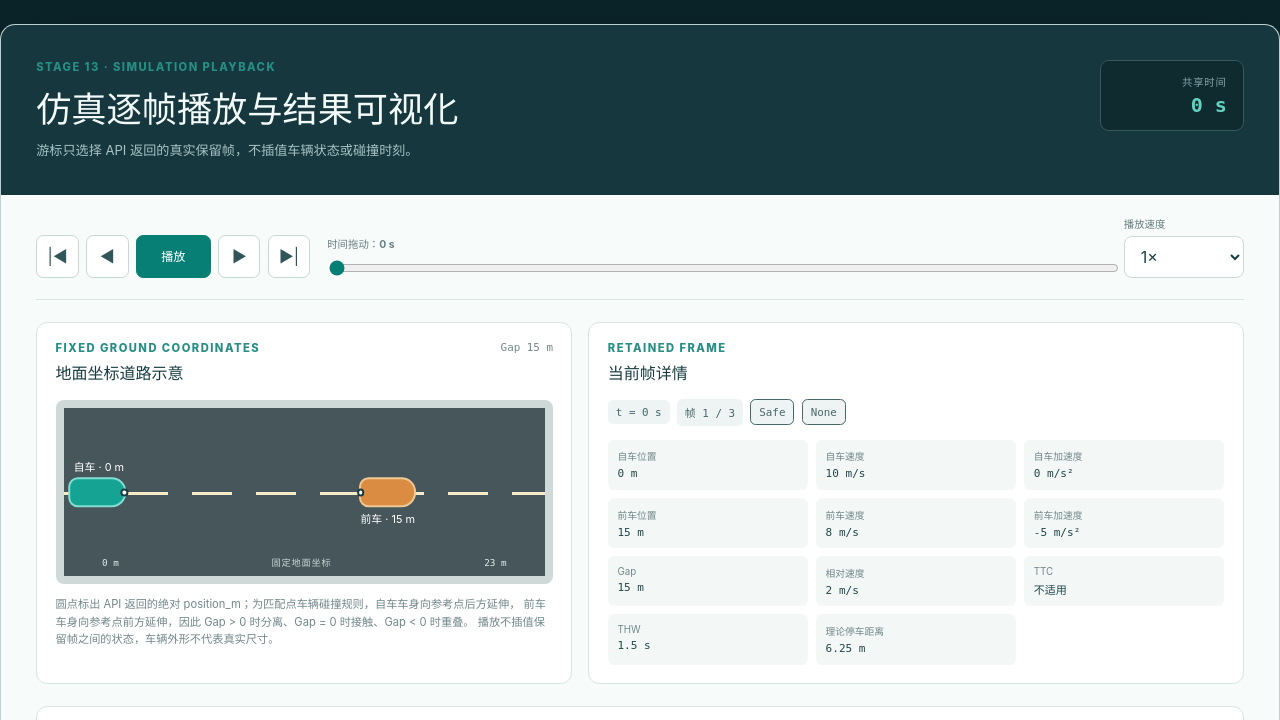
Test: PlaybackWorkbench › starts at the first retained frame and supports frame and scrub controls
expect the text "t = 0 s" is shown: met, box [608,400,670,424]
expect the text "Safe" is shown: met, box [750,399,794,425]
Click the button named "后一帧": (239, 256) [218,235,260,278]
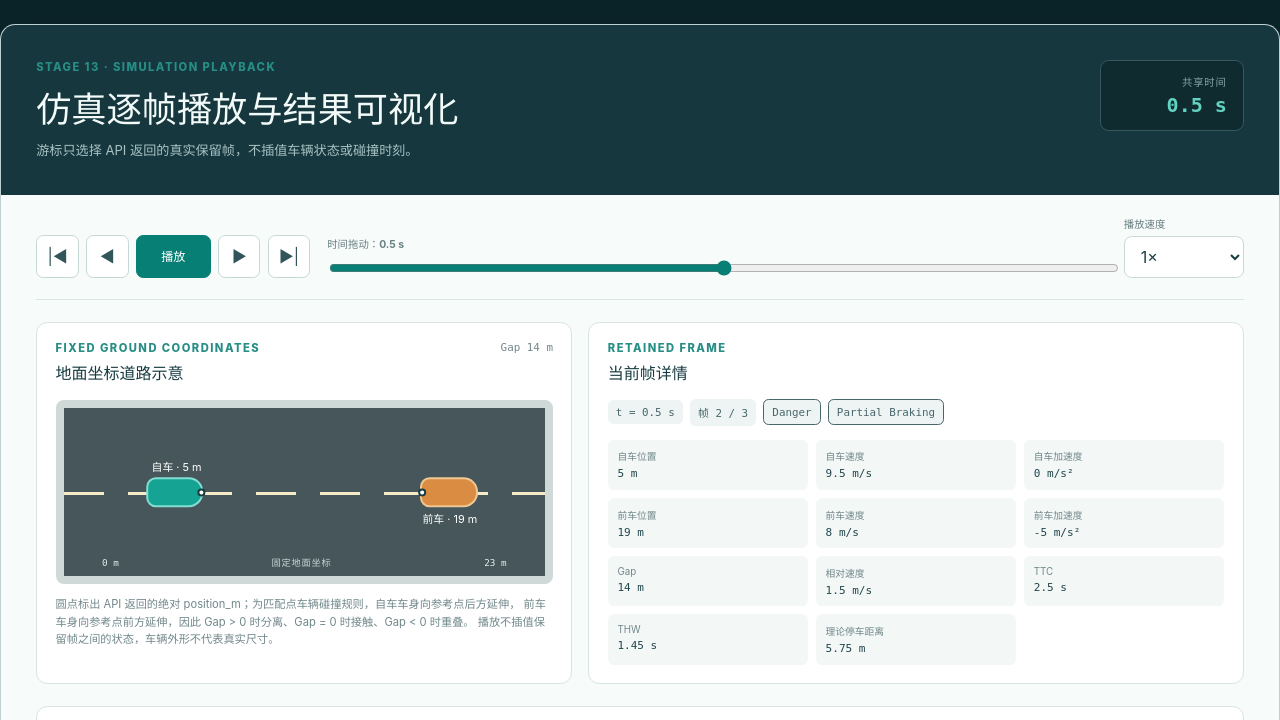
expect the text "t = 0.5 s" is shown: met, box [608,400,683,424]
expect the text "Danger" is shown: met, box [763,399,821,425]
expect the text "Partial Braking" is shown: met, box [828,399,944,425]
Click the button named "跳到末帧": (289, 256) [268,235,310,278]
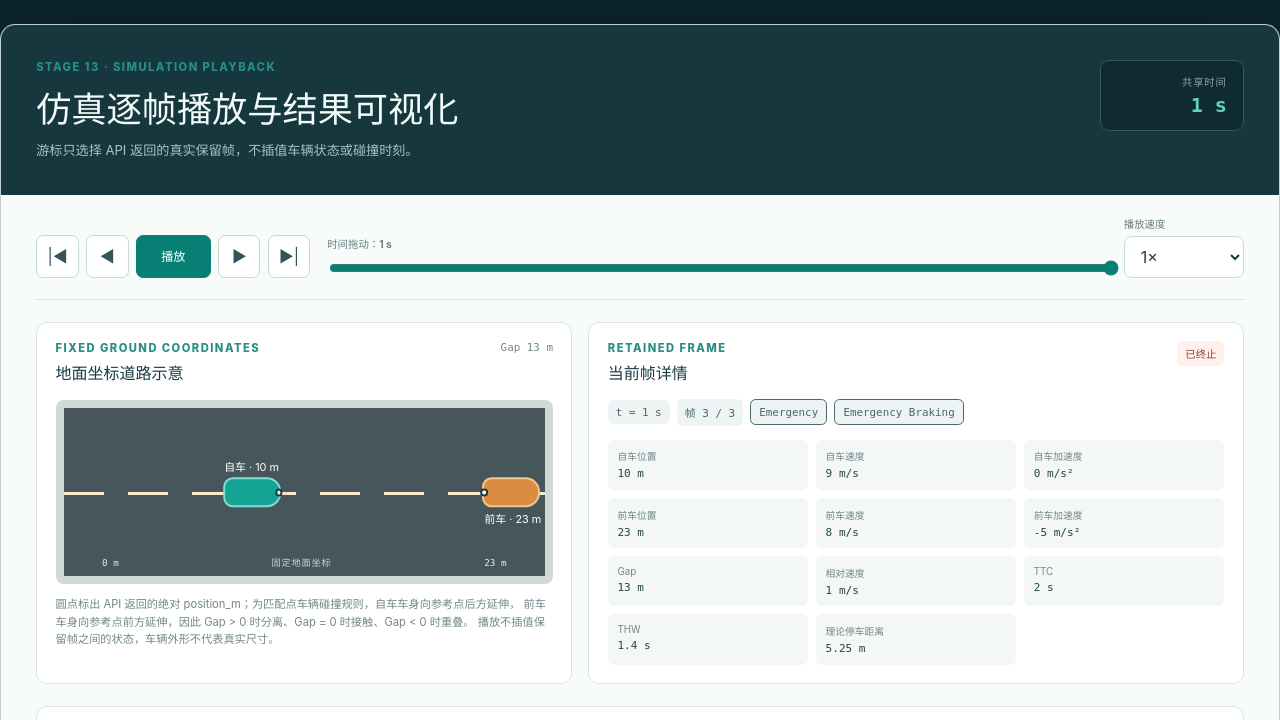
expect the text "t = 1 s" is shown: met, box [608,400,670,424]
Set the slider to "0": (337, 268) [329,260,1119,276]
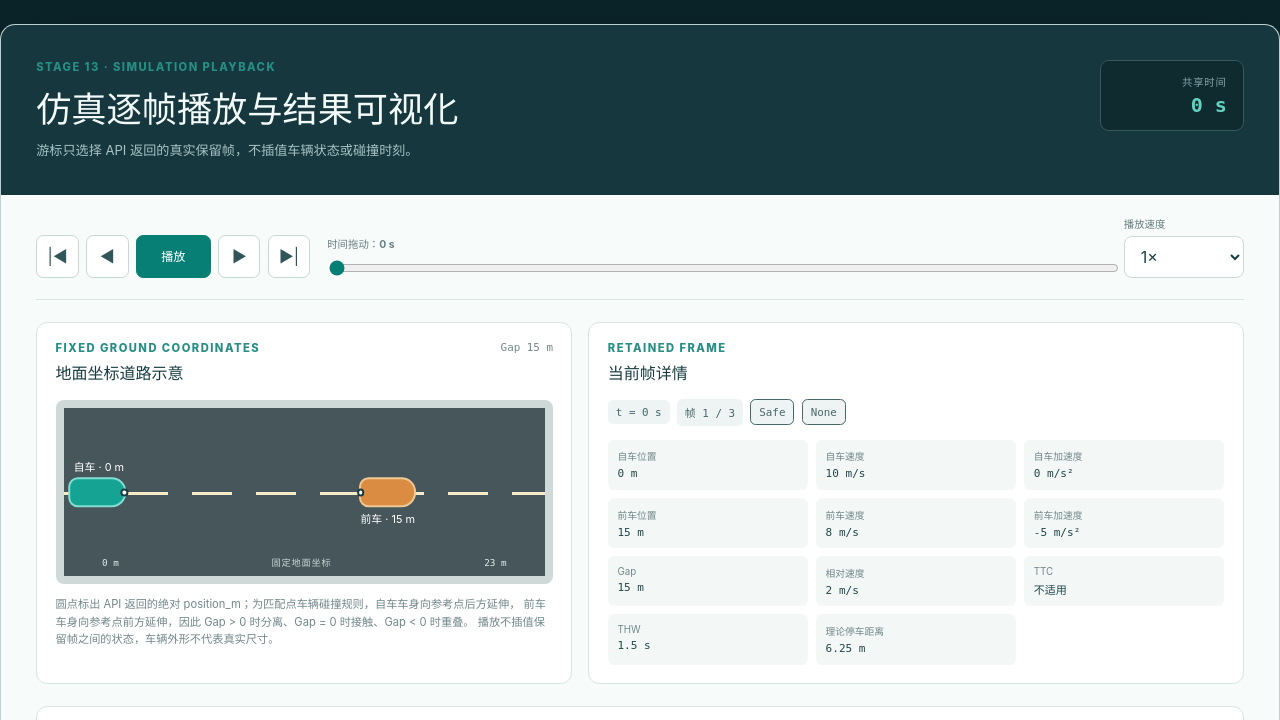
expect the text "t = 0 s" is shown: met, box [608,400,670,424]
